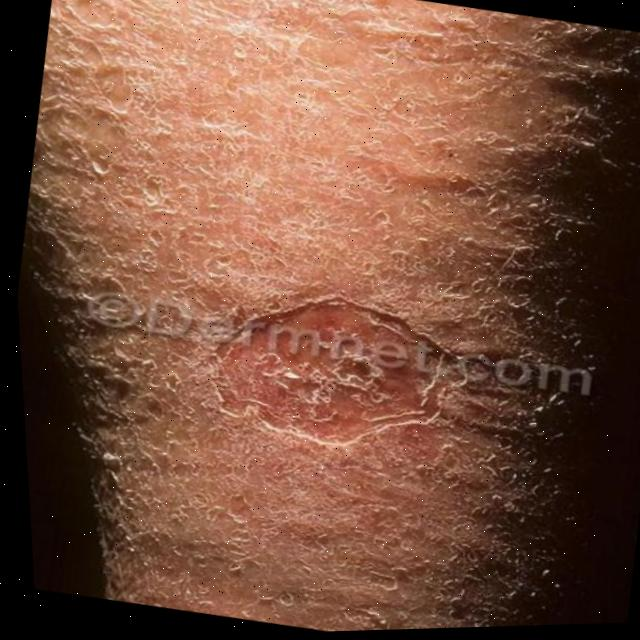Eczema: (210, 278, 477, 459)
